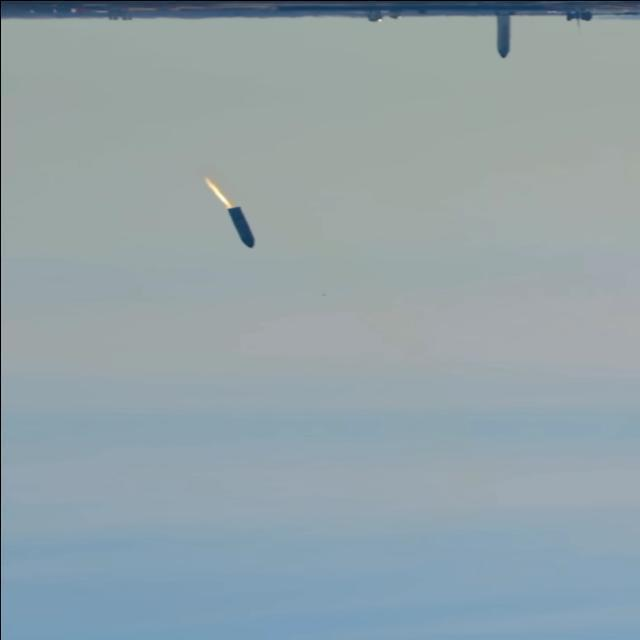missile: (230, 206, 258, 251)
